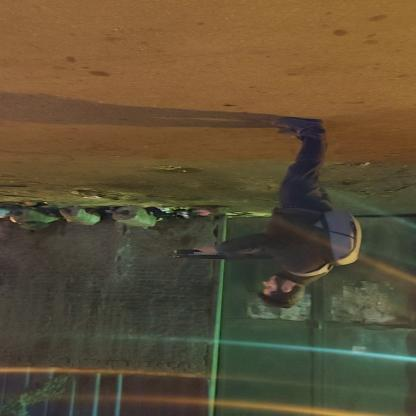long weapon: (165, 236, 278, 268)
